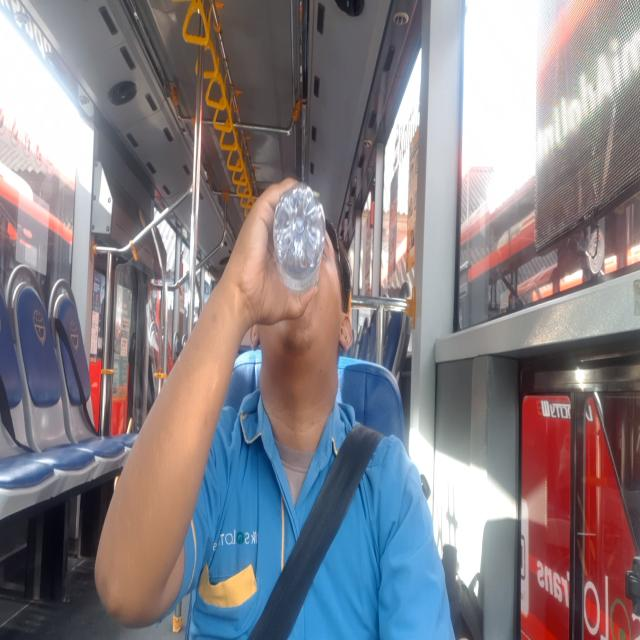Seatbelt: (270, 180, 329, 302)
